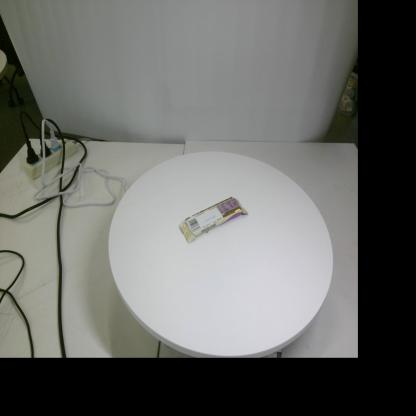Chocolate: (179, 196, 249, 244)
